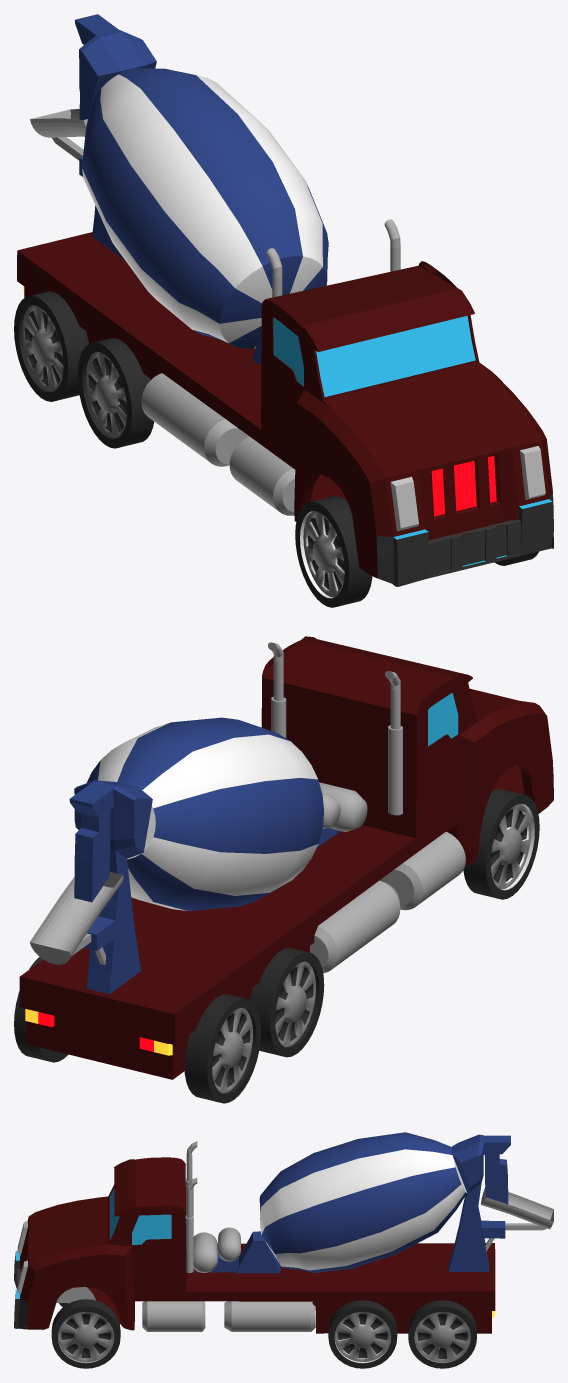
Rendered from V_CementTruck.fbx.
3 views of the same model, one above another, from view 1: azimuth 30°, elevation 25°; view 2: azimuth 150°, elevation 25°; view 3: azimuth 270°, elevation 25° (orthographic). The views are drawn at different scales.
Visible parts, largest first — view 1: Cube; view 2: Cube; view 3: Cube.
Boxes of the visible parts, <box> form: Cube: <box>14,14,553,607</box>; Cube: <box>14,636,553,1103</box>; Cube: <box>14,1132,553,1368</box>.
Size of the model in its own units: 376 by 577 by 1400.
